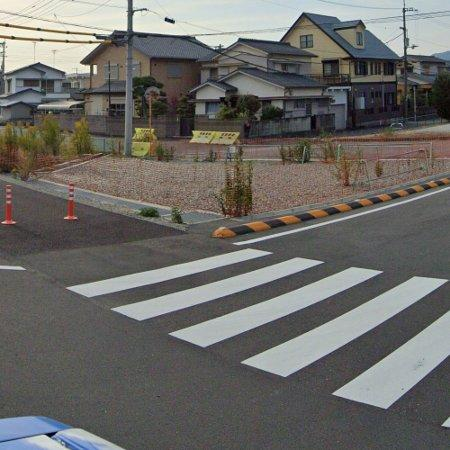crosswalks: (65, 246, 450, 410)
